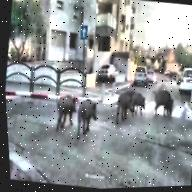boar: (72, 94, 105, 147), (53, 86, 82, 136), (148, 87, 181, 122), (108, 87, 135, 129), (130, 90, 149, 121)
